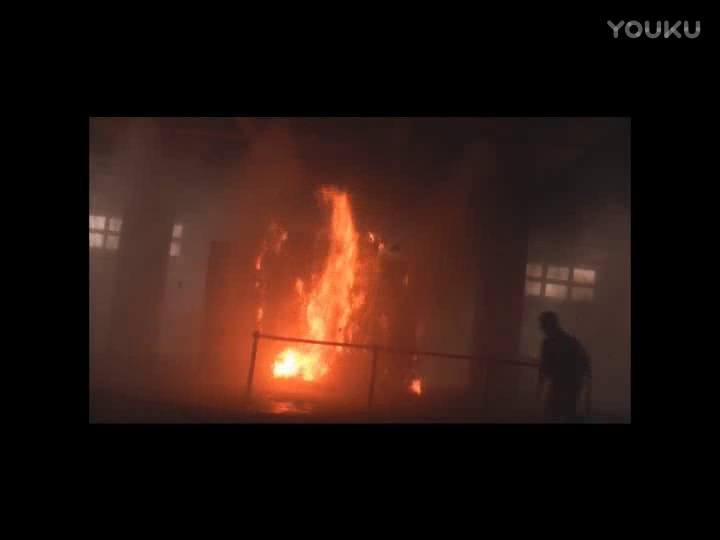fire: (273, 191, 370, 382)
